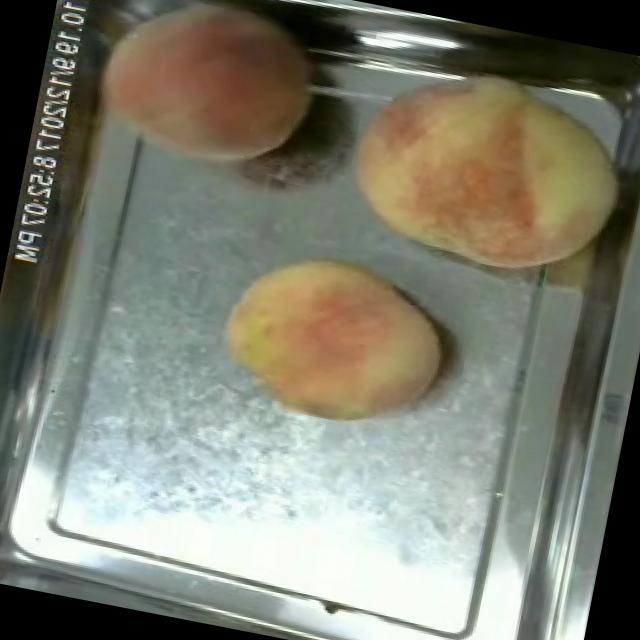Fruit: (324, 37, 640, 300), (202, 228, 462, 450), (77, 0, 336, 194)
